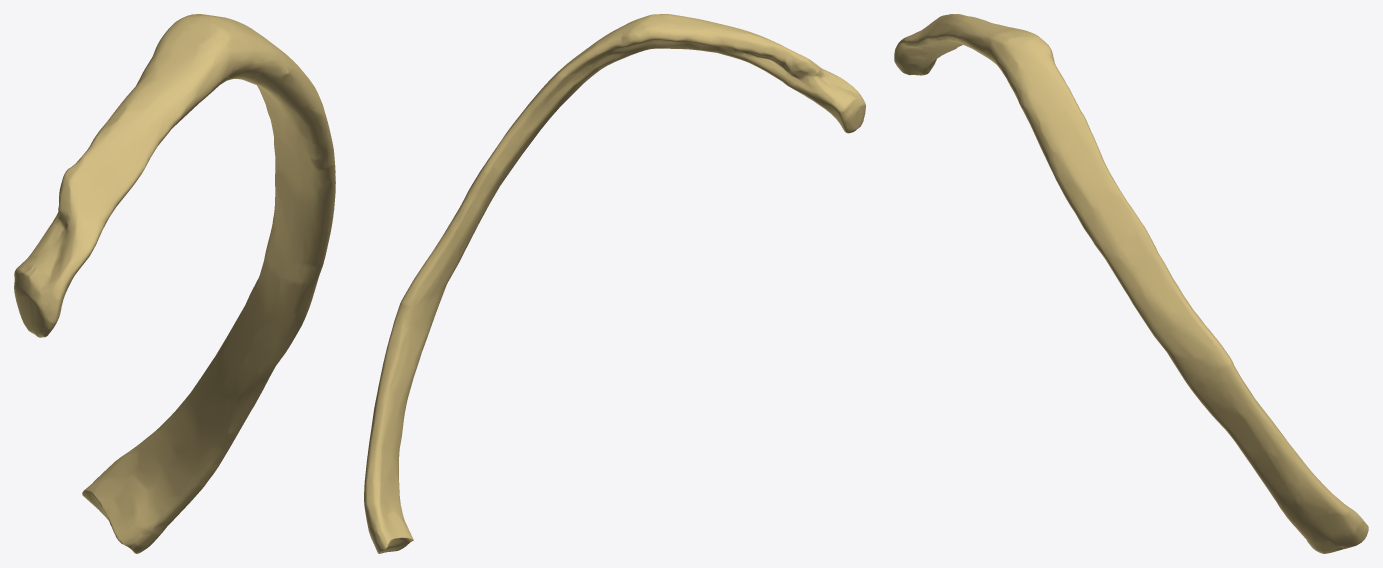
The picture shows the model from 3 angles, left to right: view 1: azimuth 30°, elevation 25°; view 2: azimuth 150°, elevation 25°; view 3: azimuth 270°, elevation 25°; orthographic projection. The views are drawn at different scales.
Visible parts, largest first — view 1: 左侧第八肋; view 2: 左侧第八肋; view 3: 左侧第八肋.
Boxes of the visible parts, box(x1,y1,x2,y2) form: 左侧第八肋: box(14, 14, 335, 553); 左侧第八肋: box(364, 14, 865, 553); 左侧第八肋: box(894, 14, 1368, 553).
Size of the model in its own units: 0.1737 by 0.2408 by 0.2233.
